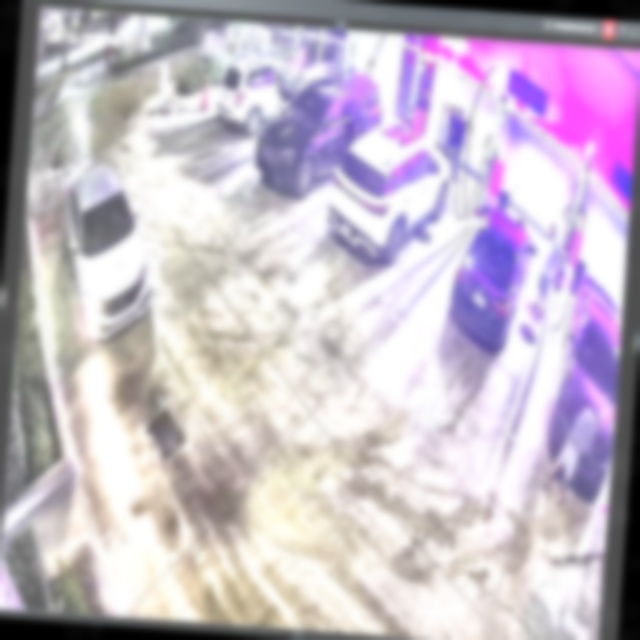Car: (52, 158, 160, 349), (327, 117, 454, 267), (251, 62, 386, 196), (448, 204, 539, 353)
